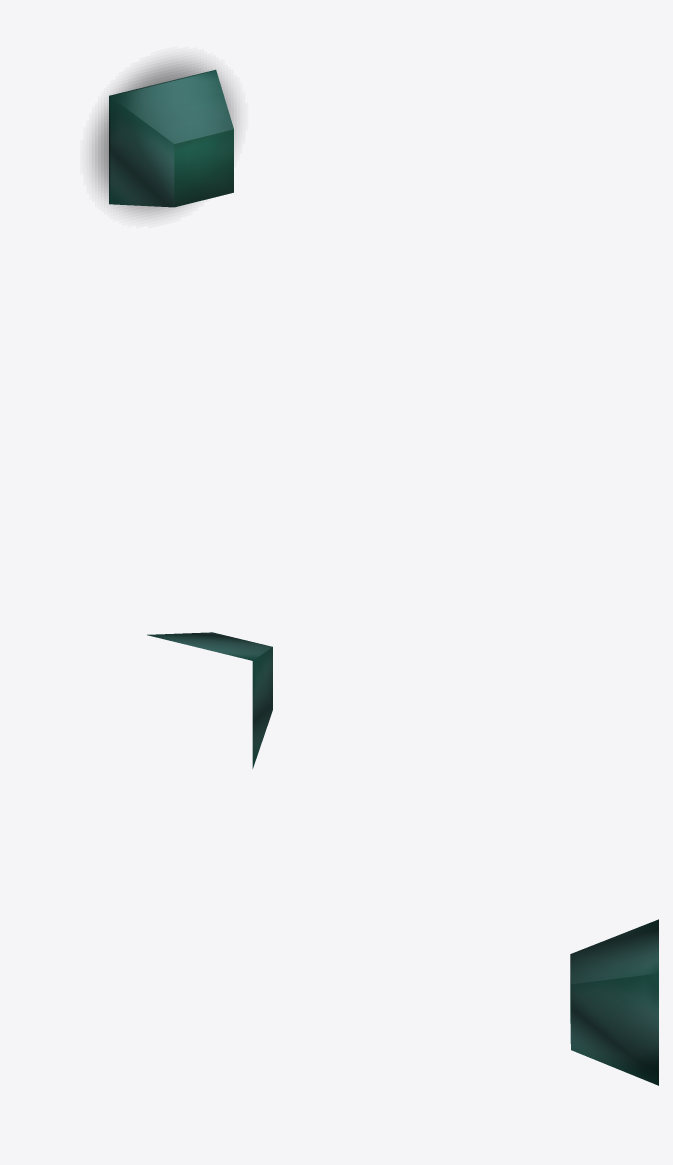
Rendered from prop_DL_post_one_light.glb.
3 views of the same model, one above another, from view 1: azimuth 30°, elevation 25°; view 2: azimuth 150°, elevation 25°; view 3: azimuth 270°, elevation 25° (orthographic). The views are drawn at different scales.
Parts seen in each view (by area): view 1: o13, g8; view 2: o13; view 3: o13.
Part boxes in pixels (<box>): o13: <box>109,69,233,207</box>; g8: <box>92,59,236,215</box>; o13: <box>147,632,272,768</box>; o13: <box>570,919,658,1085</box>.
Bounding box in the file's own units: 7 × 3.96 × 11.3.
Materials: 2 (2 with a texture image).
